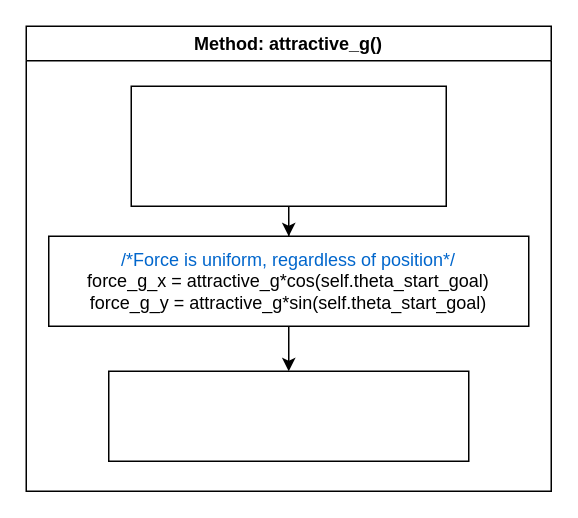
The diagram is 578 pixels wide and 518 high, and some of its shapes have lost their labels. The centre of each missing label's shape, as x and y in pixels:
/*Attractive goal is constant*/ attractive_g = self.k_att: the point at 288,145
return force_g_x, force_g_y: the point at 288,415
